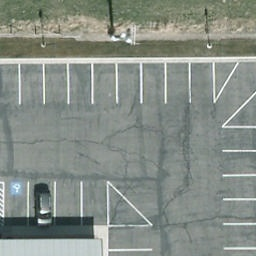car: (35, 190, 52, 229)
